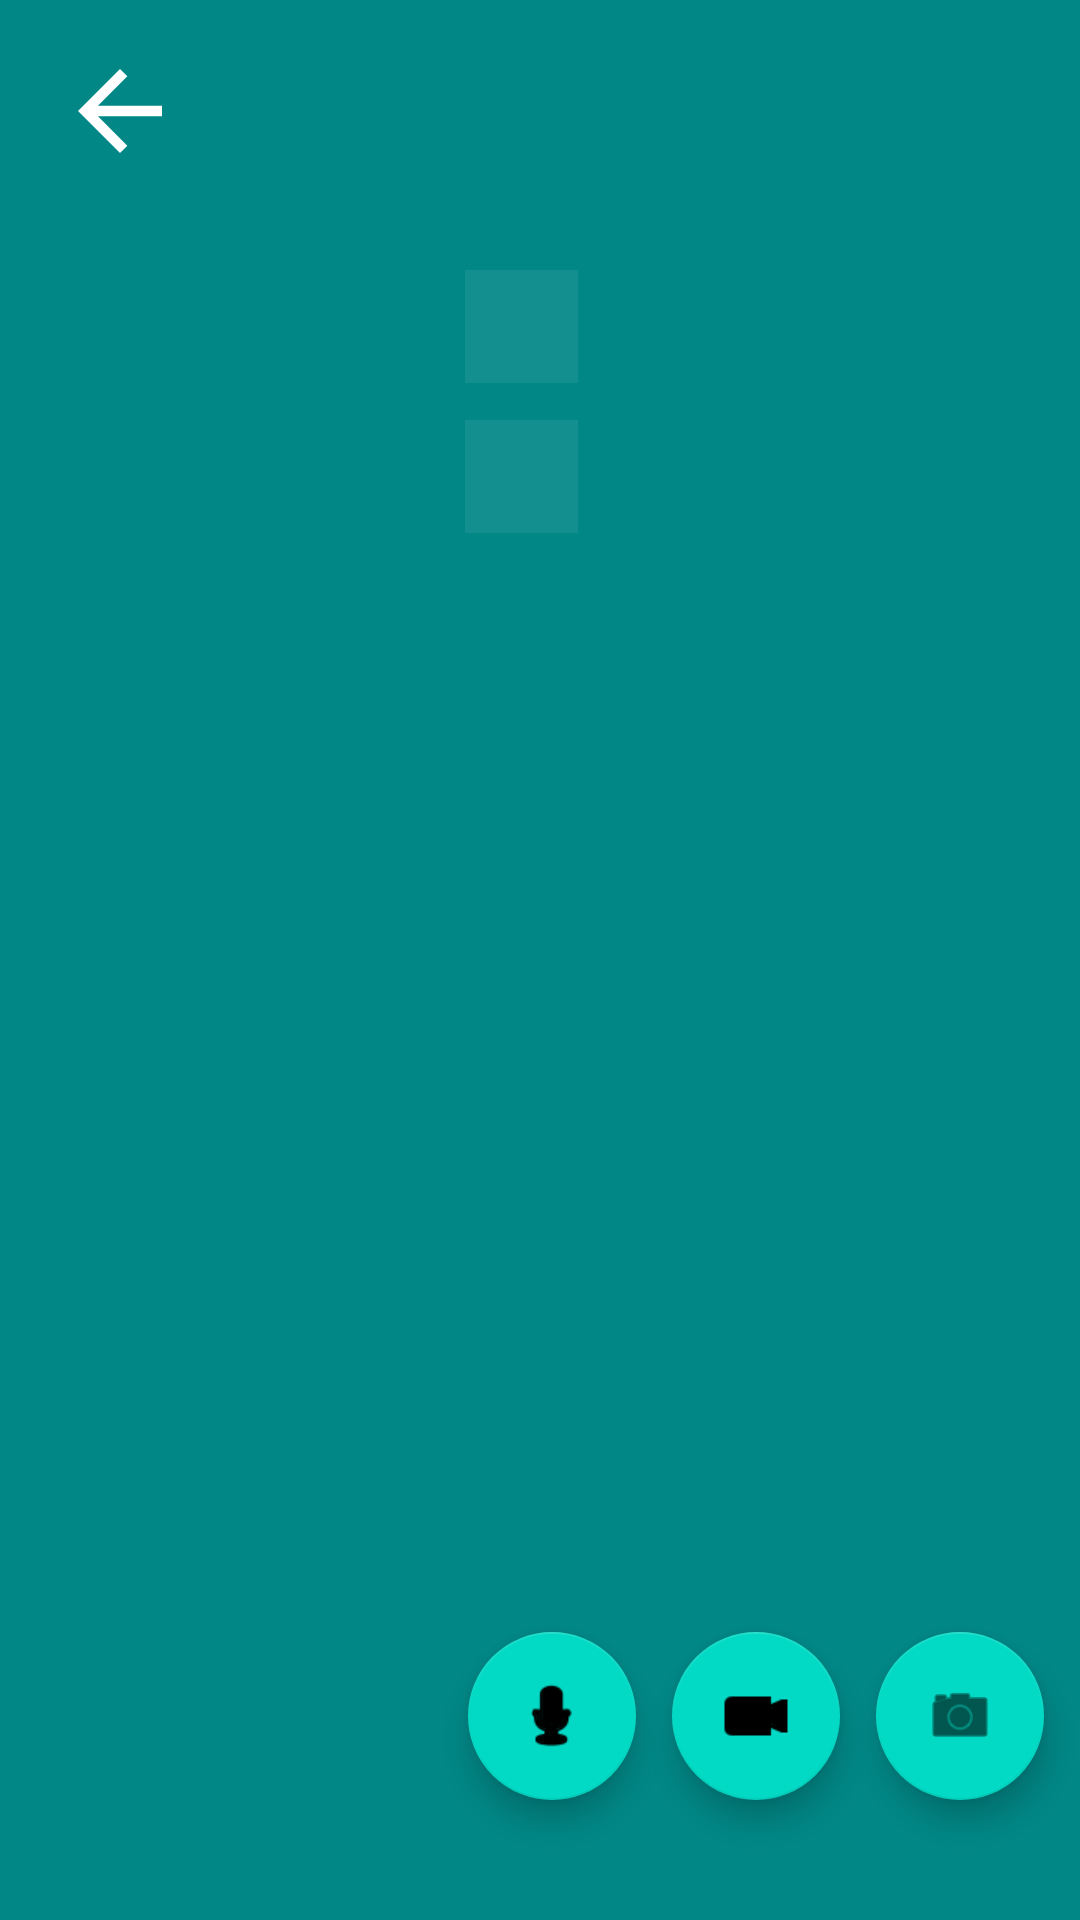

Icon click points for this 1080 × 1920 phone screenshot, format (x,y):
camera: (960,1716)
presence audio online: (552,1716)
presence video online: (756,1716)
